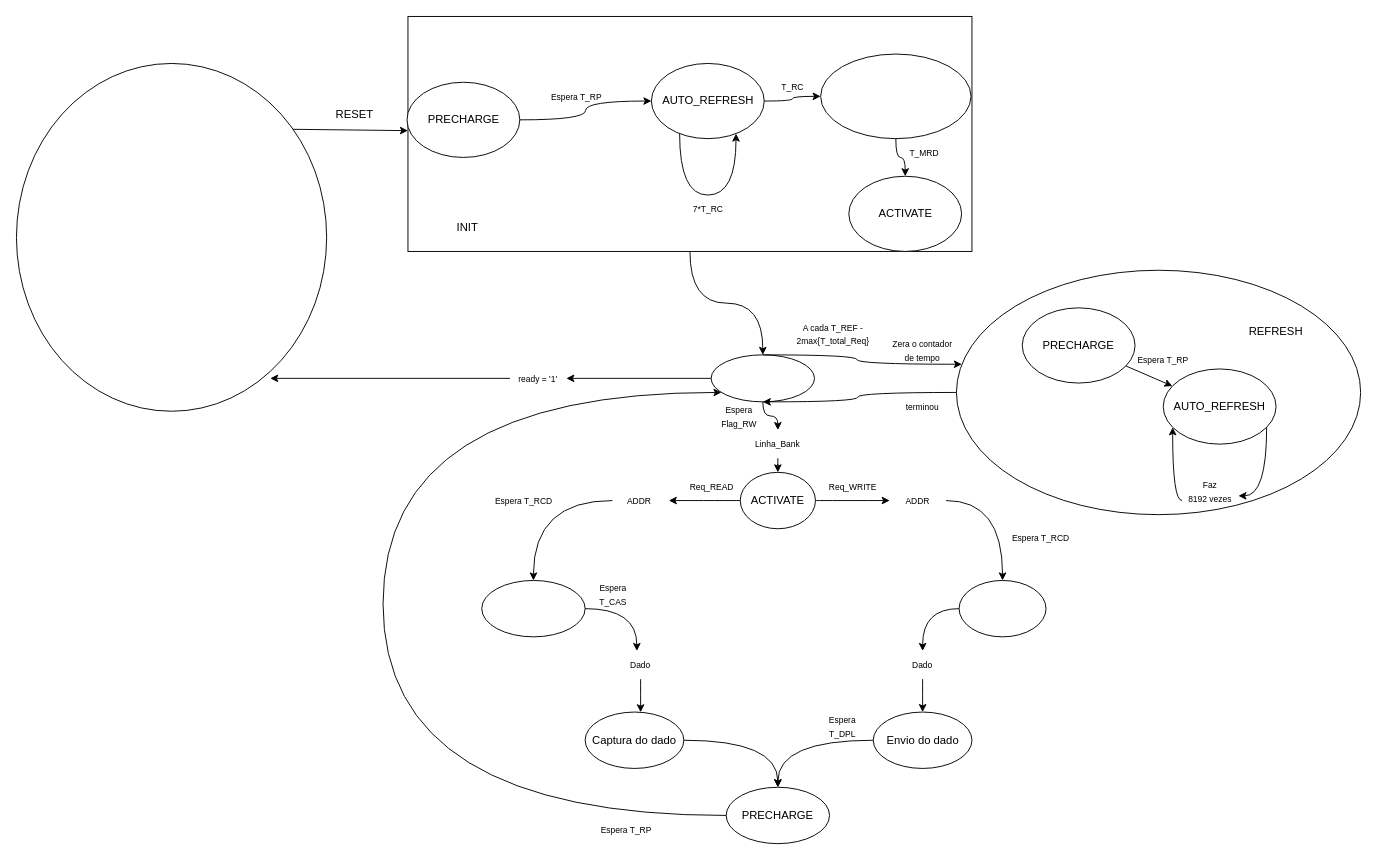
Some shapes in this 1377 by 860 pixel diagram are drawn without their labels. Here are the shapes that lost their labels. From the top down, the centre of each, then its label:
At (x=895, y=96): "LOAD_MODE_REGISTER".
At (x=171, y=237): "IFACE".
At (x=762, y=378): "Ready".
At (x=533, y=608): "READ".
At (x=1002, y=608): "WRITE".
